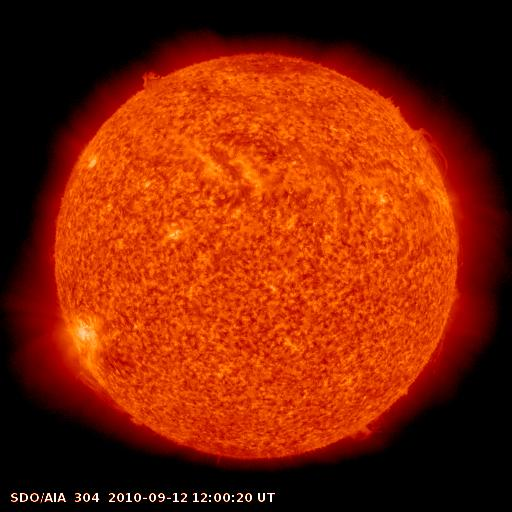prominence: (413, 122, 455, 178), (127, 60, 175, 95)
